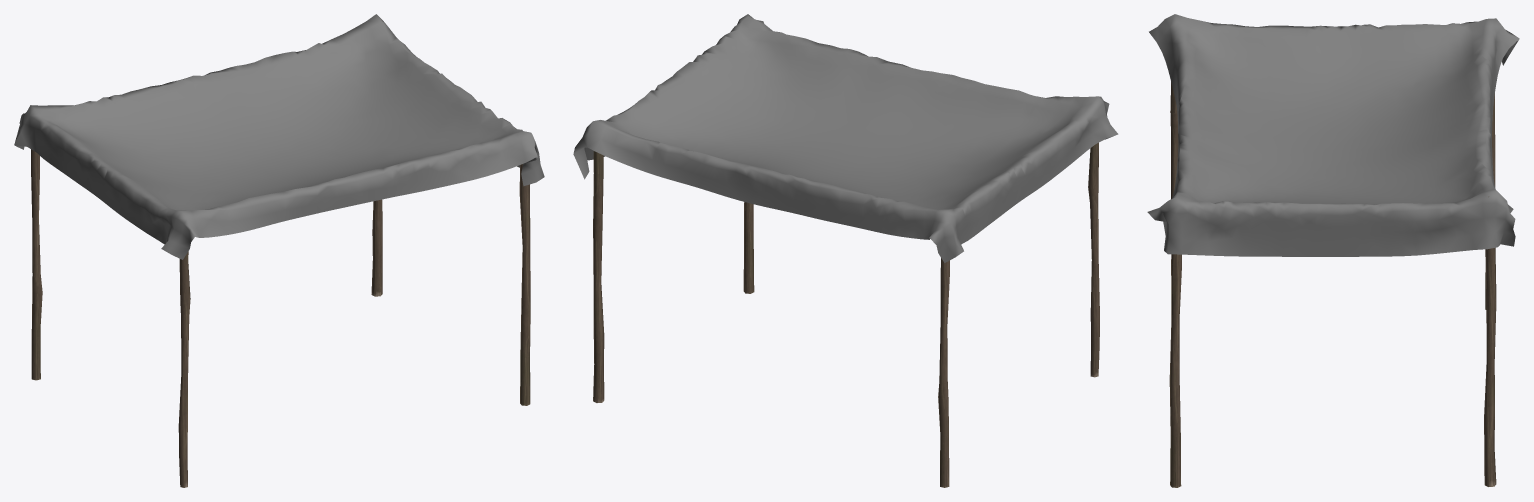
File: SM_marketstand_04.fbx
3 views of the same model, side by side, from view 1: azimuth 30°, elevation 25°; view 2: azimuth 150°, elevation 25°; view 3: azimuth 270°, elevation 25° (orthographic). The views are drawn at different scales.
Visible parts, largest first — view 1: Object32557; view 2: Object32557; view 3: Object32557.
Part boxes in pixels (x1,y1,x2,y2): Object32557: (14,14,544,487); Object32557: (573,14,1118,487); Object32557: (1147,14,1519,487).
Bounding box in the file's own units: 192 × 133 × 152.
